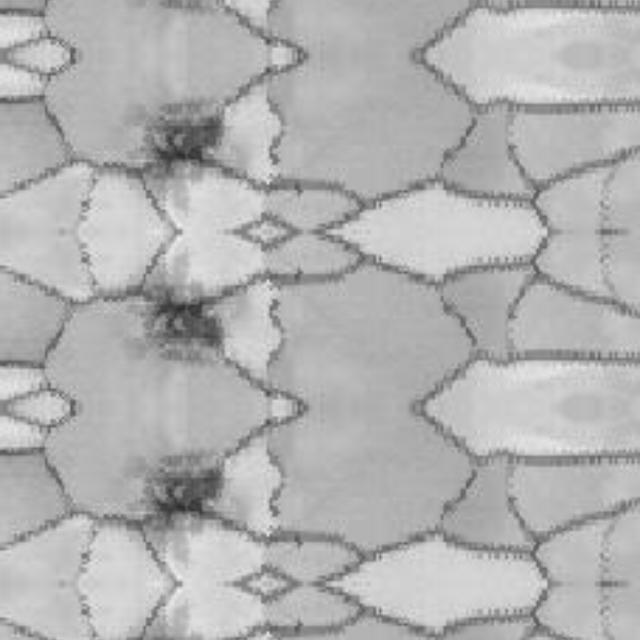good_void: (127, 255, 229, 372), (127, 446, 229, 563), (127, 93, 229, 209)
